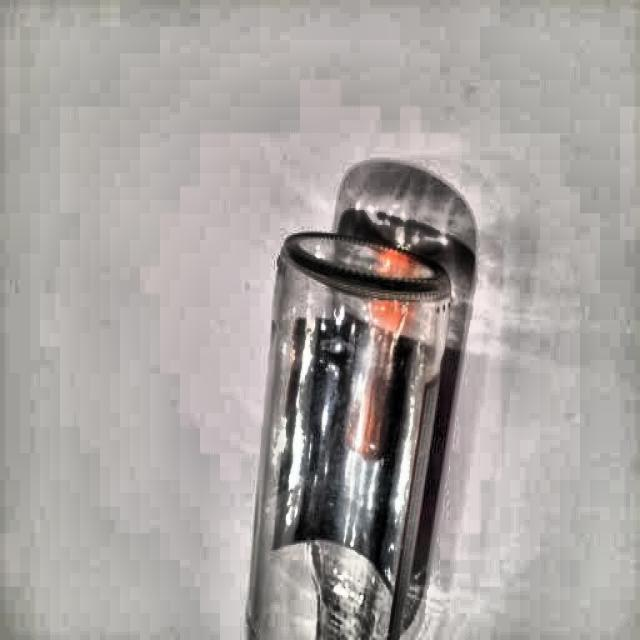glass: (246, 231, 452, 640)
